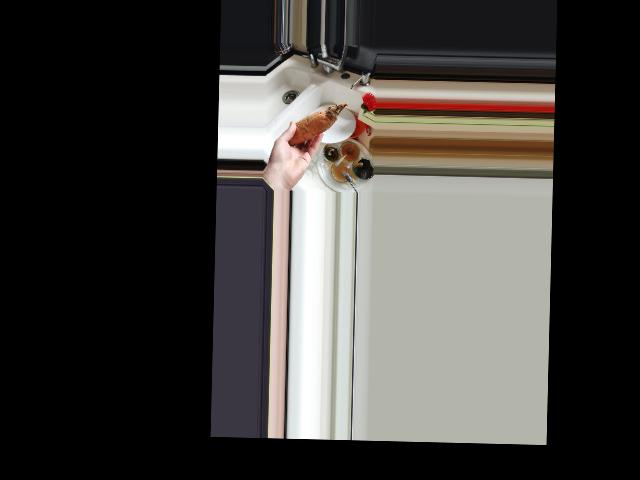sweet_potato: (283, 101, 348, 150)
